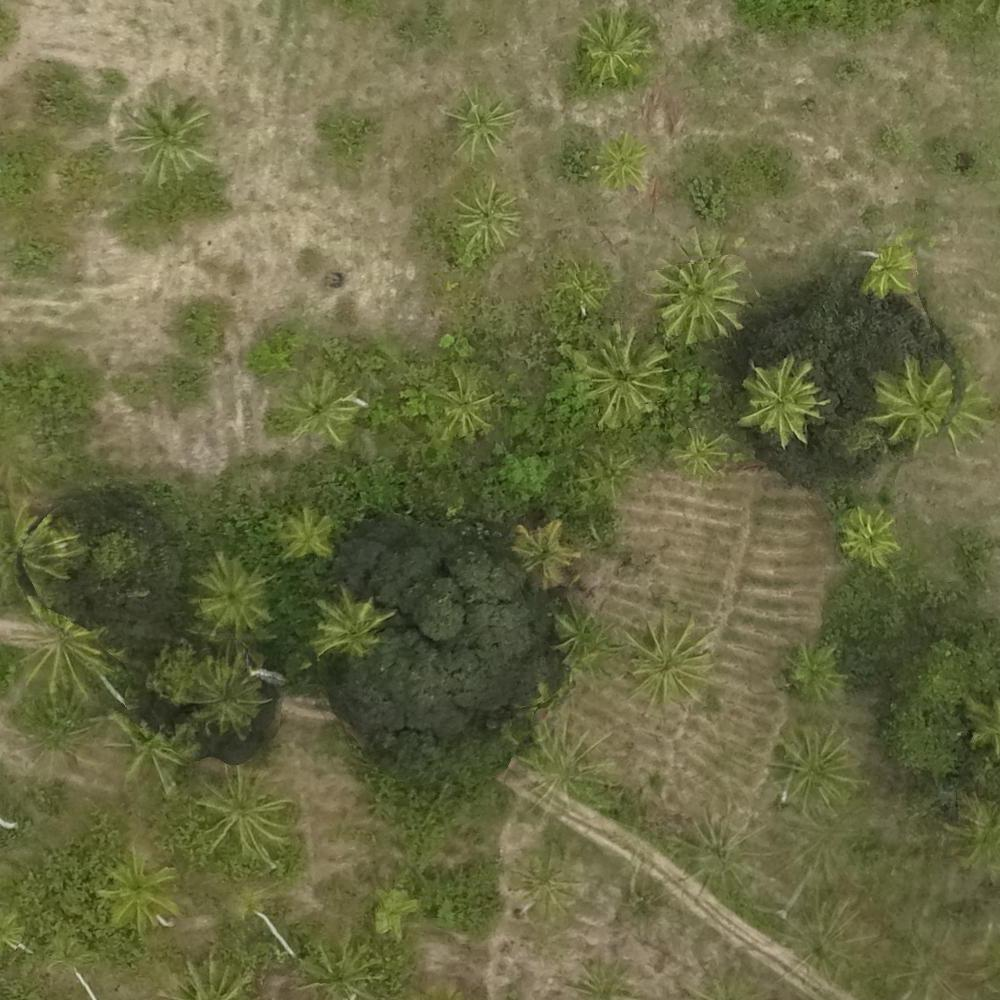not palm: (723, 523, 799, 592), (925, 7, 1000, 75), (422, 598, 496, 664), (719, 8, 791, 74), (761, 139, 833, 205), (299, 14, 372, 79), (1, 1, 76, 63), (37, 397, 113, 458), (312, 218, 378, 288), (24, 322, 100, 381), (186, 5, 258, 67), (229, 219, 301, 281), (110, 252, 181, 313), (812, 2, 885, 59), (385, 683, 450, 747), (154, 391, 218, 455), (888, 639, 950, 701), (12, 230, 69, 297), (248, 146, 314, 202), (657, 516, 717, 568)
